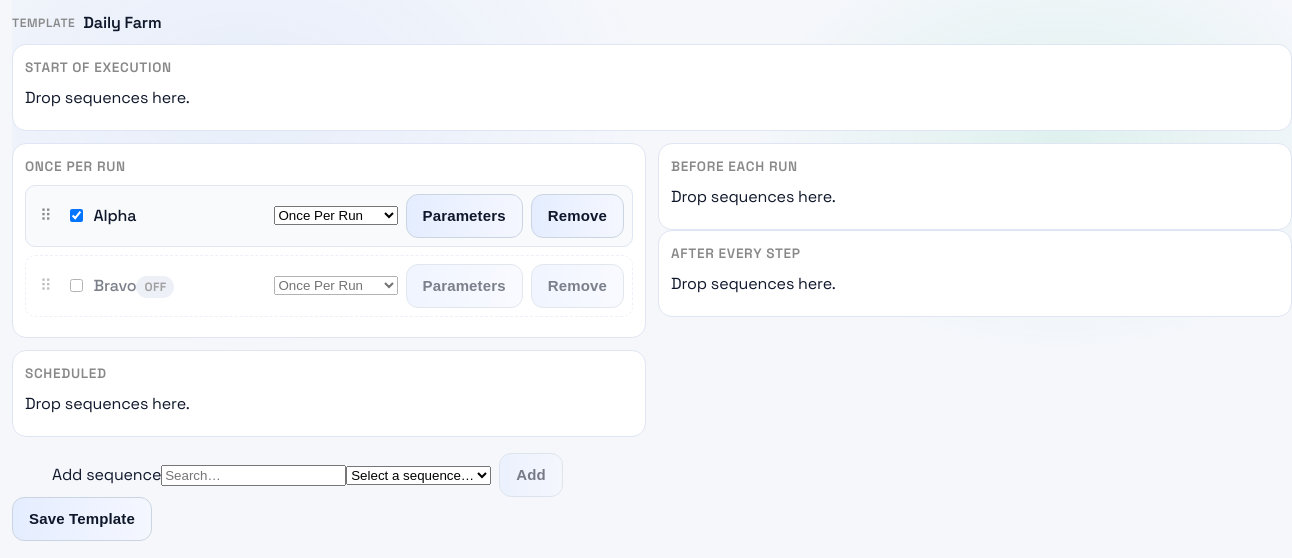
RunningQueueEditor with a linked template › shows the error and keeps the edits when the save fails
Click the button with aria-label "Remove Alpha" at {"x": 577, "y": 216}, box [531, 194, 624, 238]
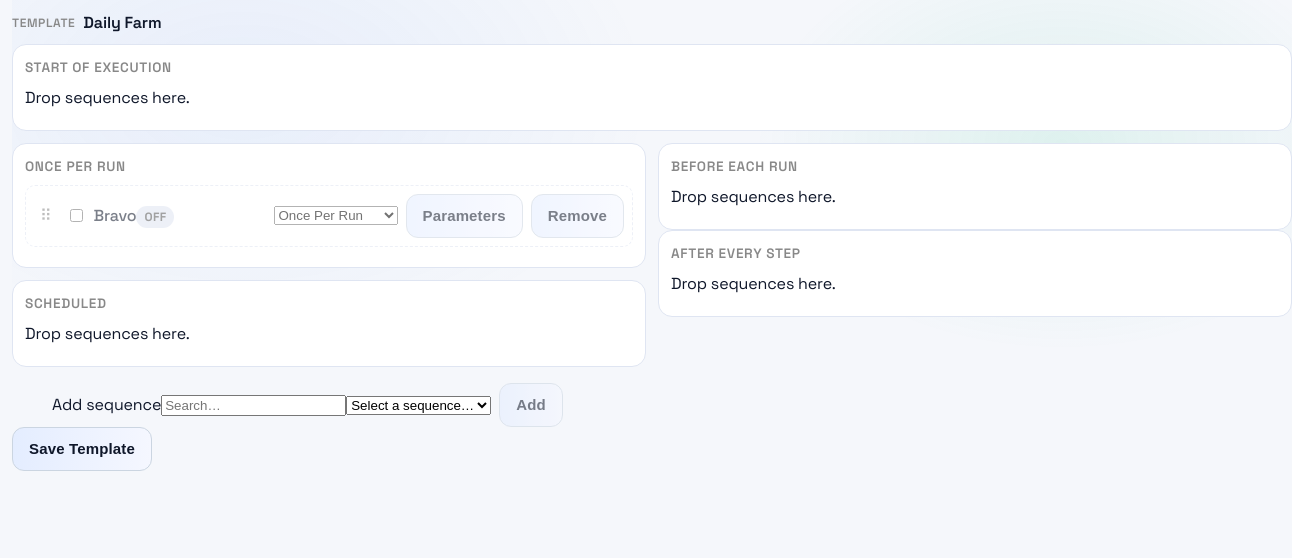
Click the button "Save Template" at {"x": 82, "y": 449}, box [12, 427, 152, 471]
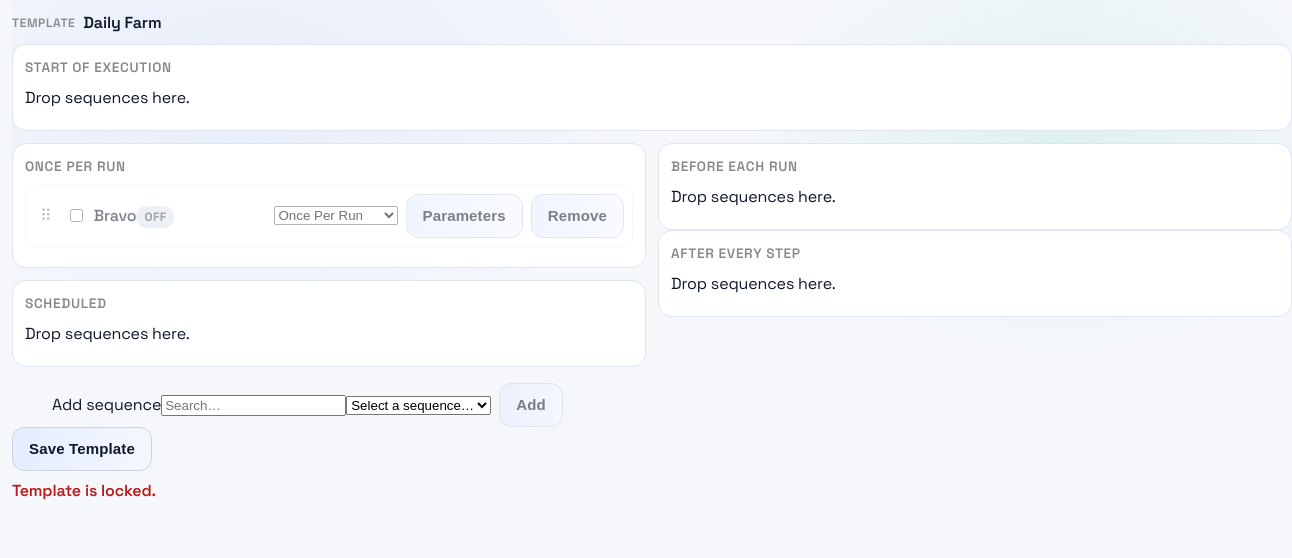
Now the message "Template is locked." is shown, box [12, 480, 156, 501]
